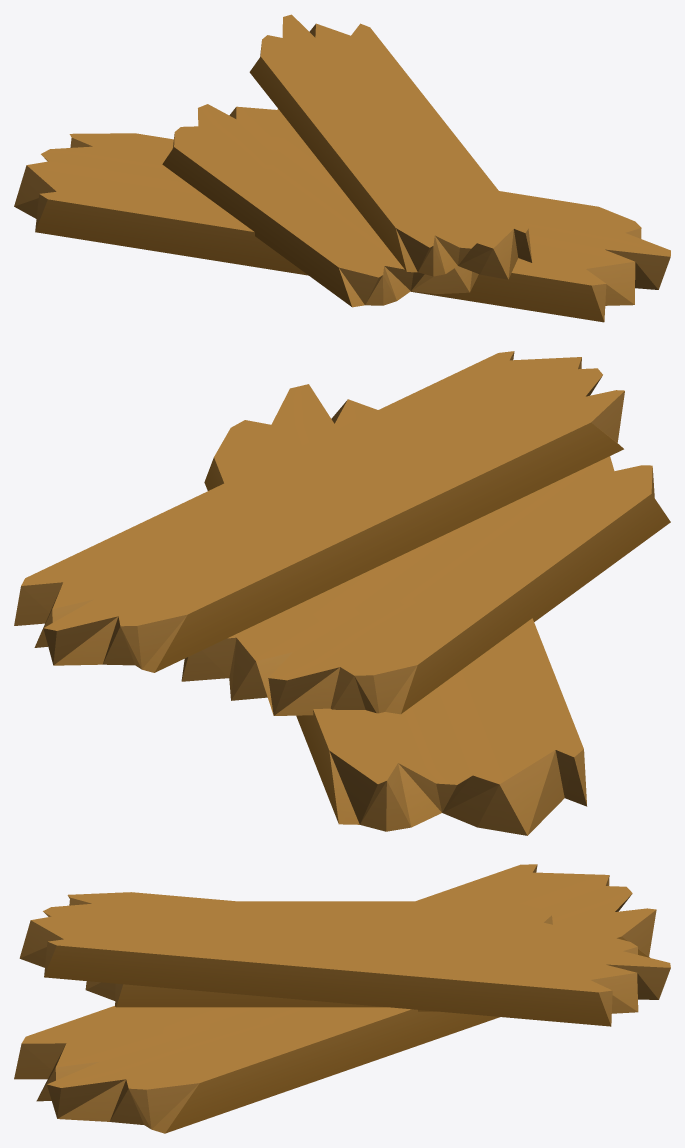
File: Broken_Crate.FBX
3 renders of one model, top to bottom at view 1: azimuth 30°, elevation 25°; view 2: azimuth 150°, elevation 25°; view 3: azimuth 270°, elevation 25°, orthographic. The views are drawn at different scales.
Visible parts, largest first — view 1: Broken_Crate; view 2: Broken_Crate; view 3: Broken_Crate.
Boxes of the visible parts, x1=… form: Broken_Crate: x1=14, y1=14, x2=670, y2=322; Broken_Crate: x1=14, y1=351, x2=670, y2=835; Broken_Crate: x1=14, y1=864, x2=670, y2=1133.
Size of the model in its own units: 0.7606 by 0.1563 by 0.9003.
